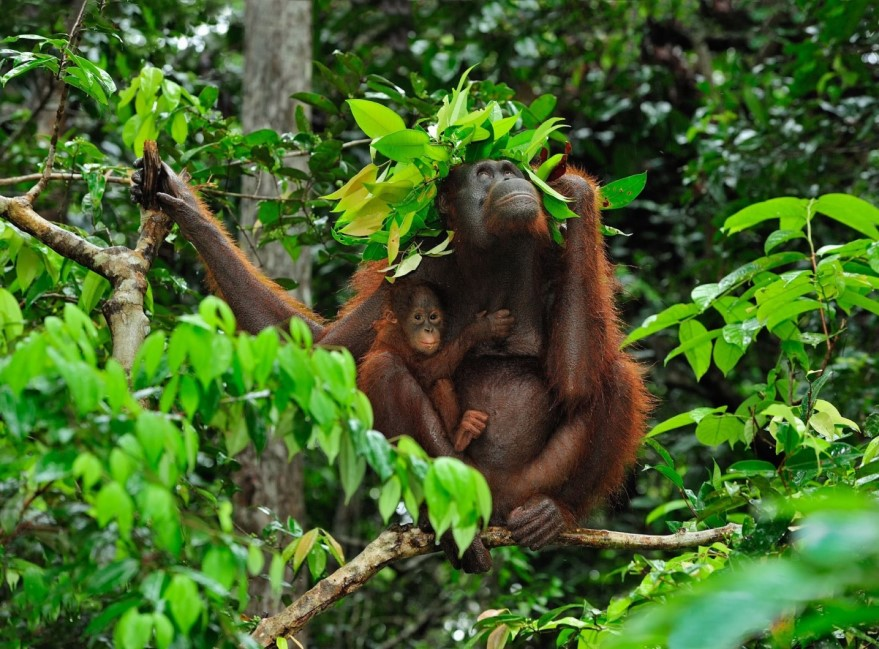Orangutan: (344, 141, 640, 517), (369, 286, 474, 453)
